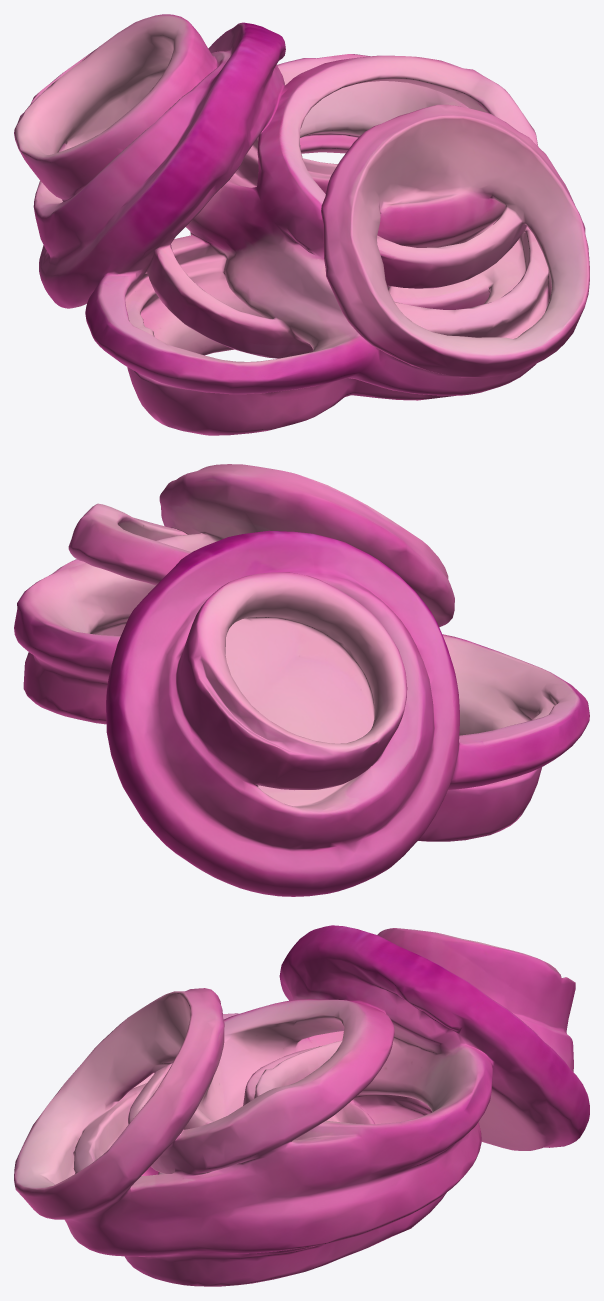
Rendered from cebollaRodajas.glb.
The picture shows the model from 3 angles, top to bottom: view 1: azimuth 30°, elevation 25°; view 2: azimuth 150°, elevation 25°; view 3: azimuth 270°, elevation 25°; orthographic projection. The views are drawn at different scales.
Parts seen in each view (by area): view 1: tripo_node_91b27911-28d2-49cf-b7c1-05c674ce1e09; view 2: tripo_node_91b27911-28d2-49cf-b7c1-05c674ce1e09; view 3: tripo_node_91b27911-28d2-49cf-b7c1-05c674ce1e09.
Boxes of the visible parts, left/top/right/bottom form: tripo_node_91b27911-28d2-49cf-b7c1-05c674ce1e09: left=14, top=14, right=589, bottom=435; tripo_node_91b27911-28d2-49cf-b7c1-05c674ce1e09: left=14, top=464, right=589, bottom=896; tripo_node_91b27911-28d2-49cf-b7c1-05c674ce1e09: left=14, top=925, right=589, bottom=1286.
Bounding box in the file's own units: 0.8524 × 0.5282 × 0.9796.
1 material, 1 textured.
